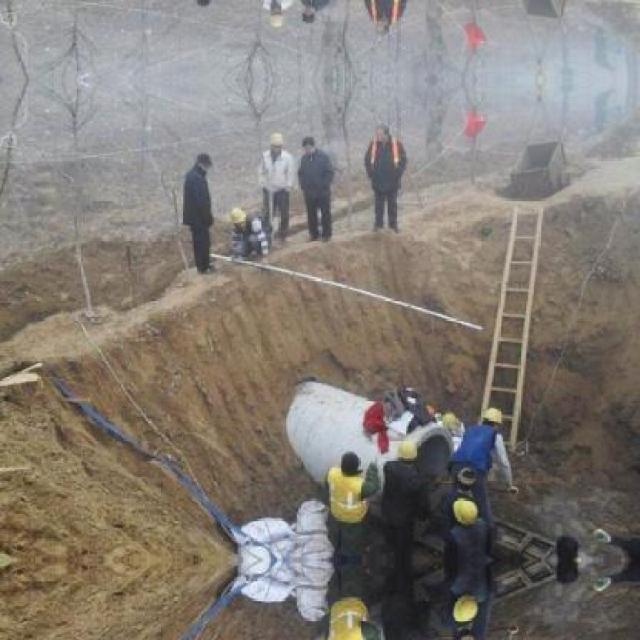helmet: (389, 432, 423, 463), (454, 492, 481, 531), (477, 397, 503, 428), (225, 200, 248, 229), (257, 131, 288, 152)
